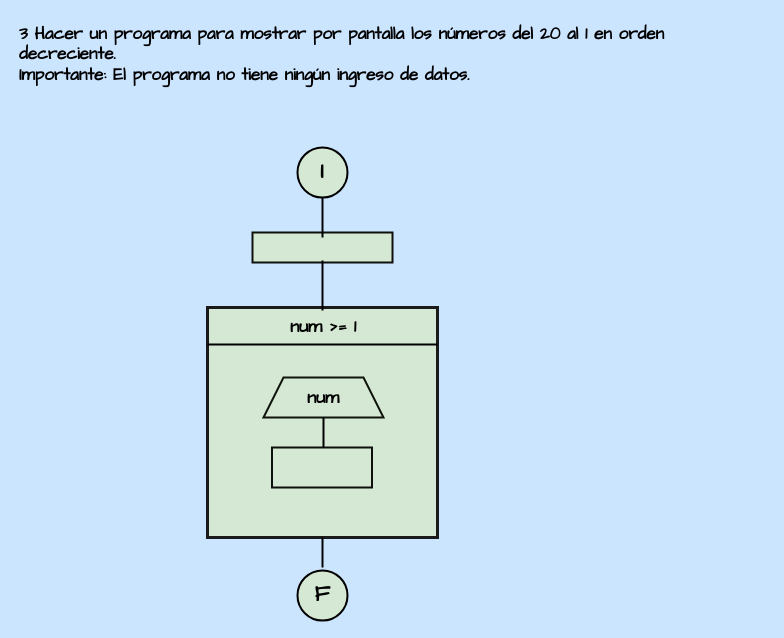
Image size: 784x638. Some labels were removed from this diagram. Here are the shapes that lost their labels. From the top down, the centre of each, then its label:
point 322,247: int num = 20
point 321,467: num--
